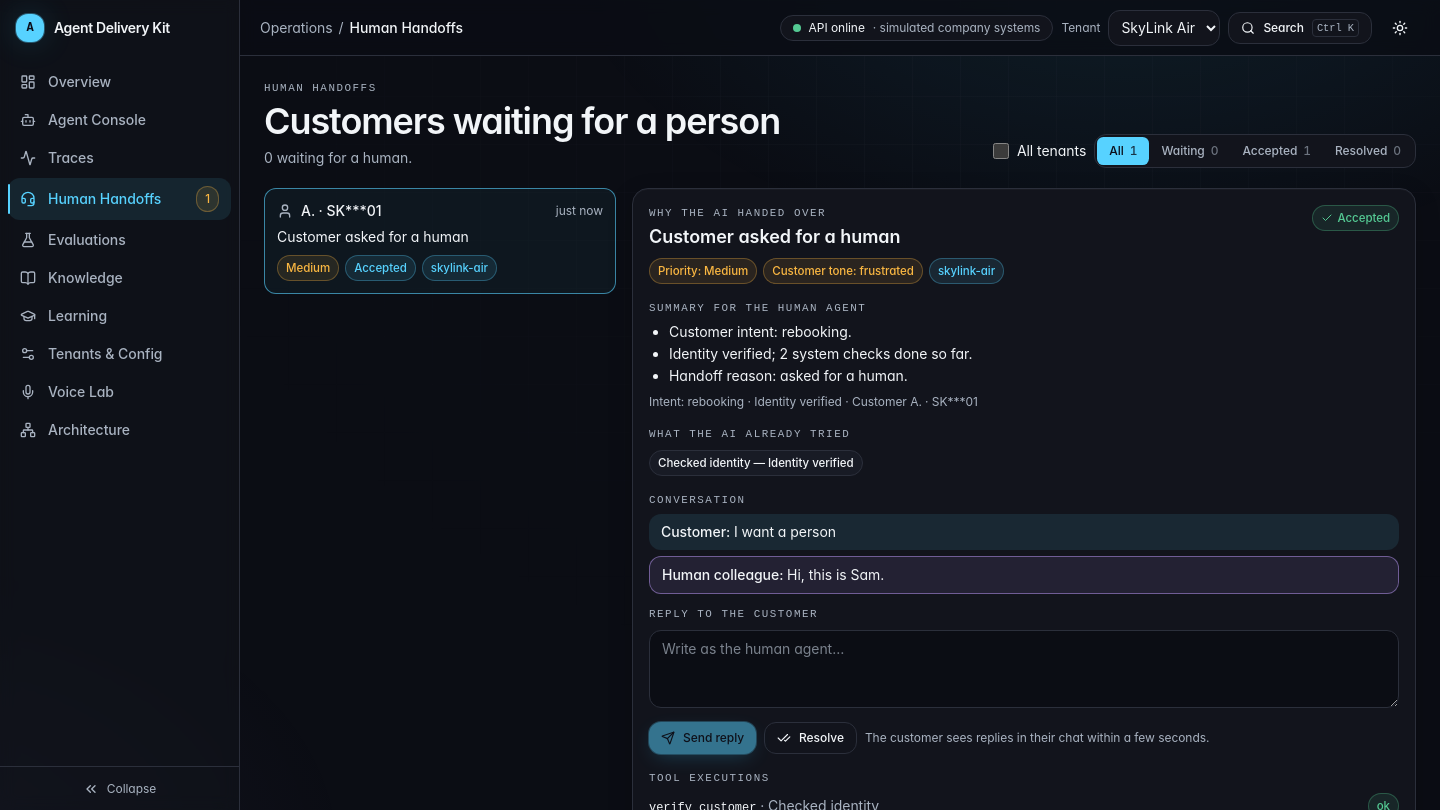
Test: behaviour › human handoff › shows a reply error instead of failing silently
Type "Hello" into the text box labelled "Reply to the customer" at (1024, 669), box top-left (649, 630), bottom-right (1399, 708)
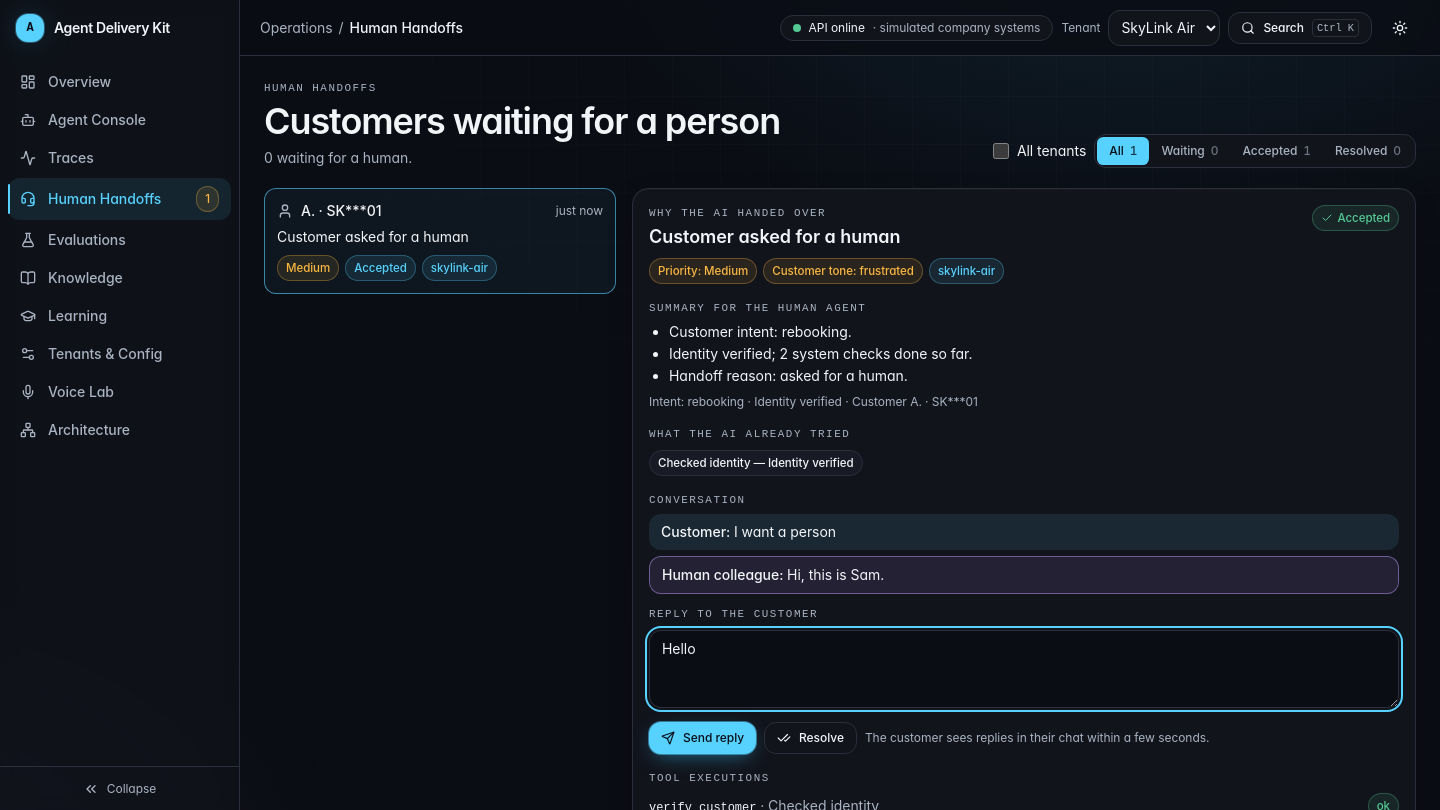
Click the button "Send reply" at (702, 738), box top-left (649, 722), bottom-right (756, 754)
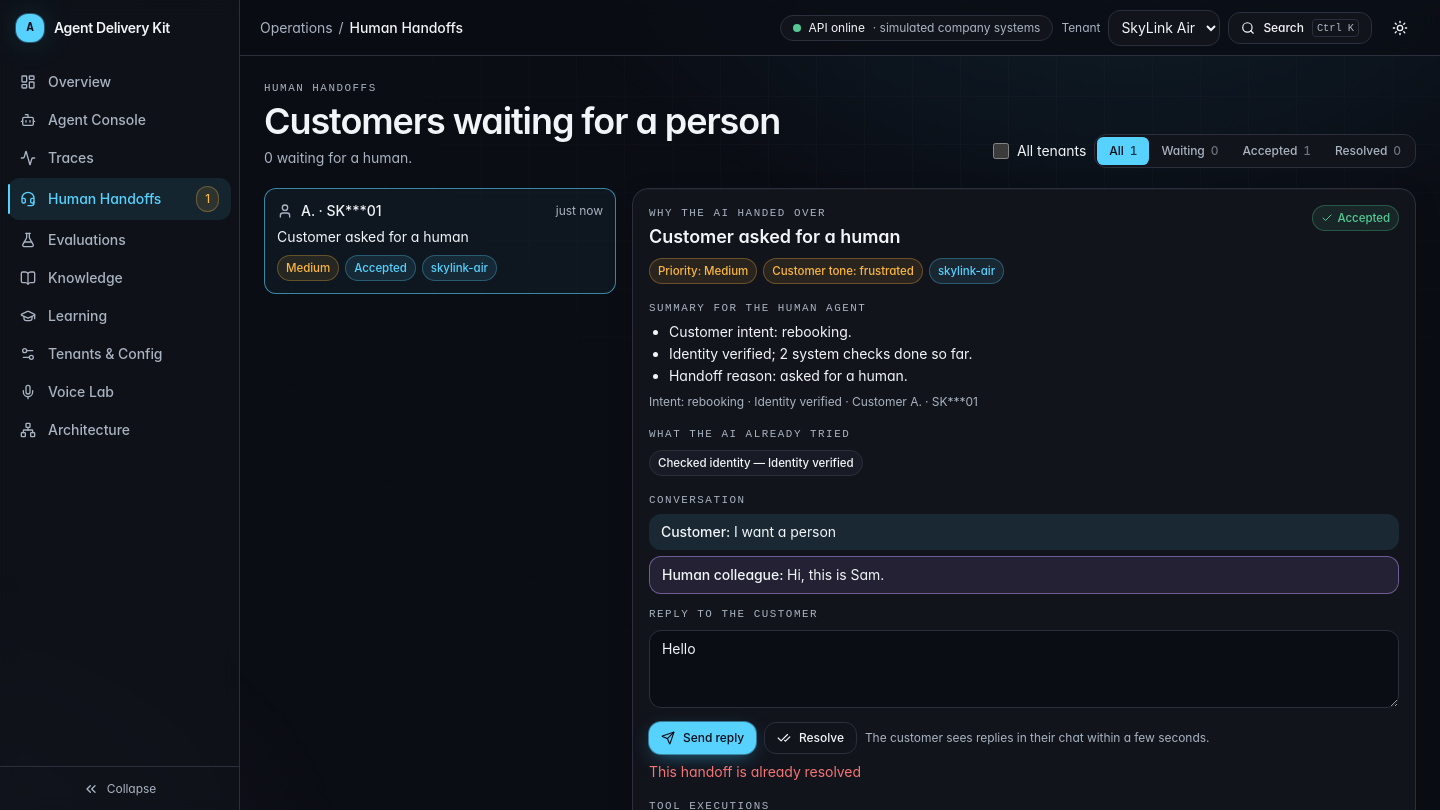
expect the message "This handoff is already resolved" is shown: met, box top-left (649, 763), bottom-right (861, 780)
